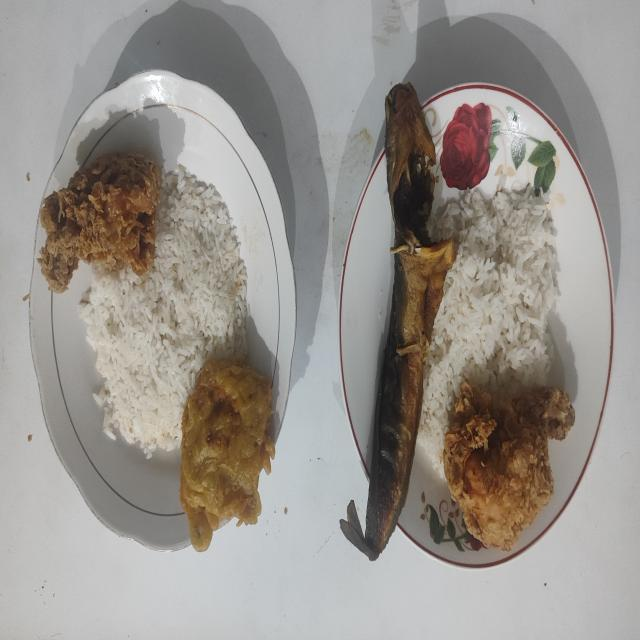nasi_putih: (80, 165, 248, 458), (420, 185, 560, 470)
